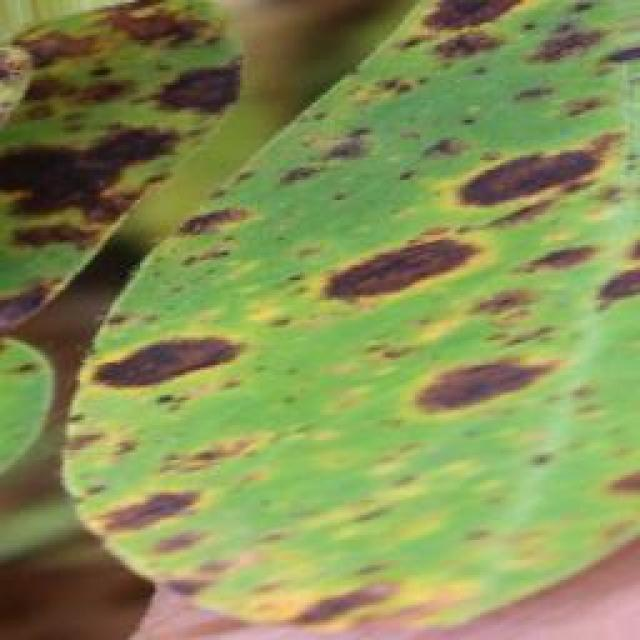Yellowish: (11, 0, 638, 594)
